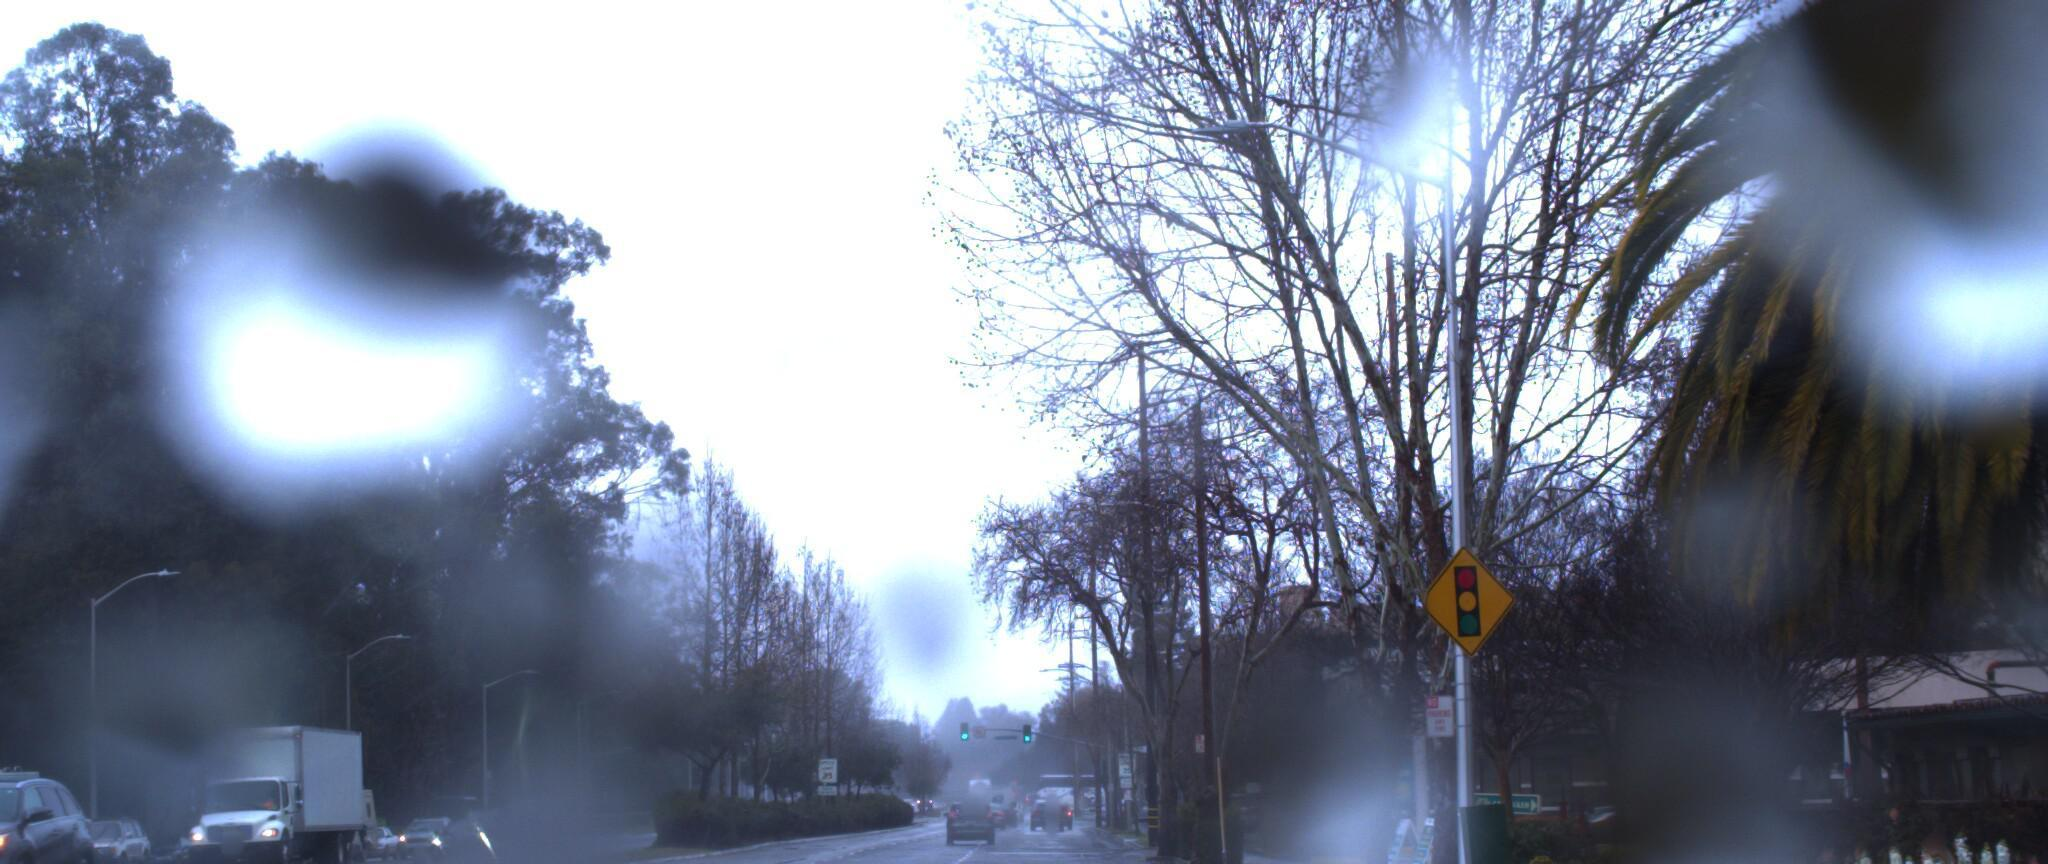car: (0, 773, 108, 864)
other_vehicle: (0, 747, 47, 864)
truck: (165, 719, 380, 864)
